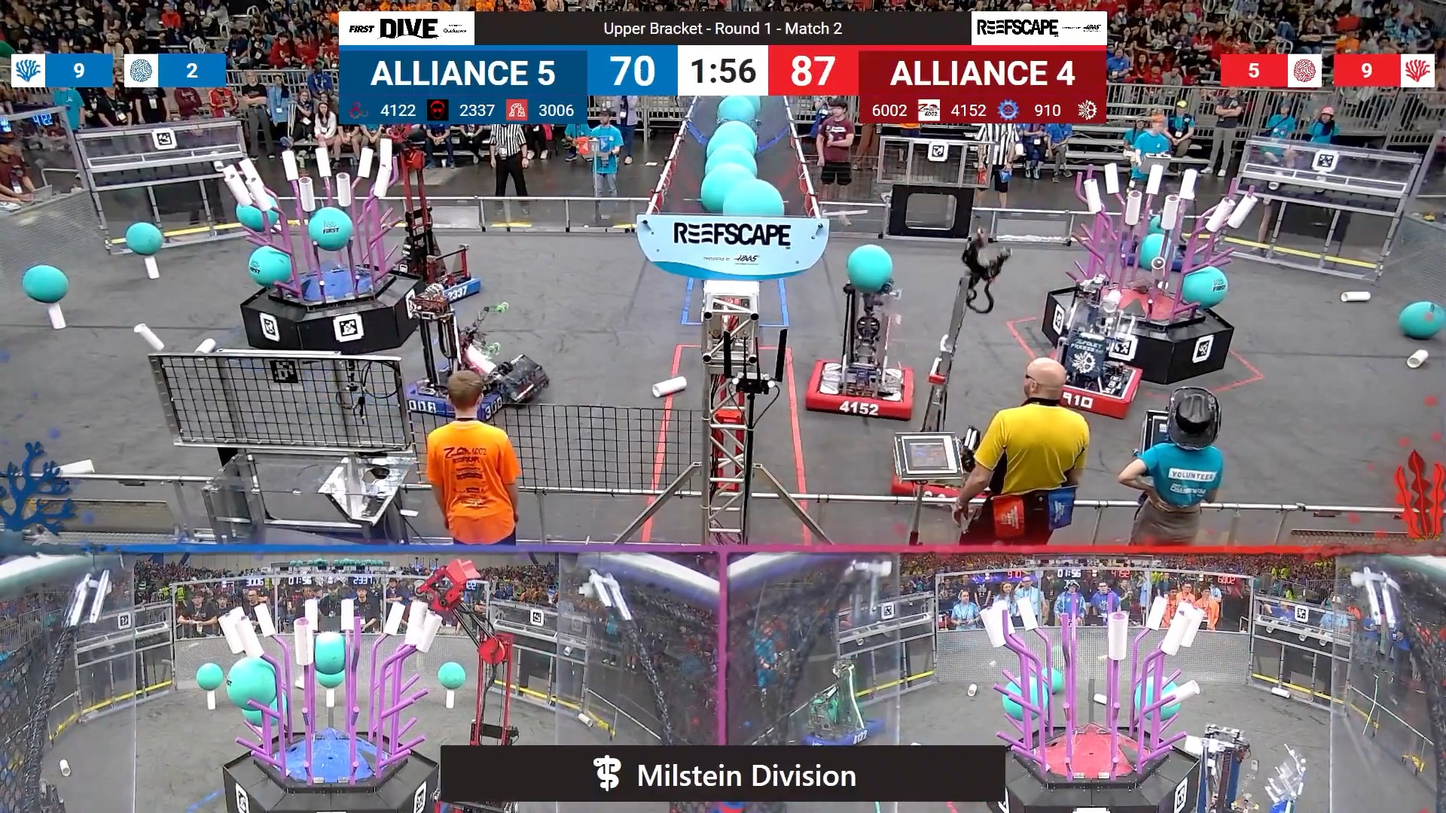bumpers: (795, 355, 926, 425), (401, 362, 543, 422), (886, 444, 989, 507), (1052, 361, 1151, 421), (407, 270, 489, 309)
